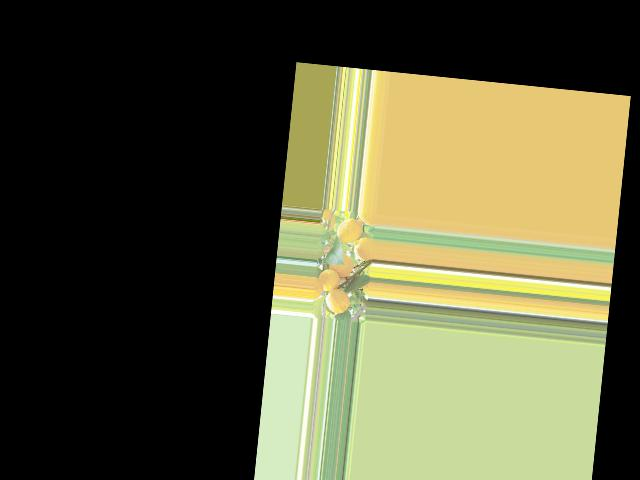lemon: (322, 285, 349, 316)
